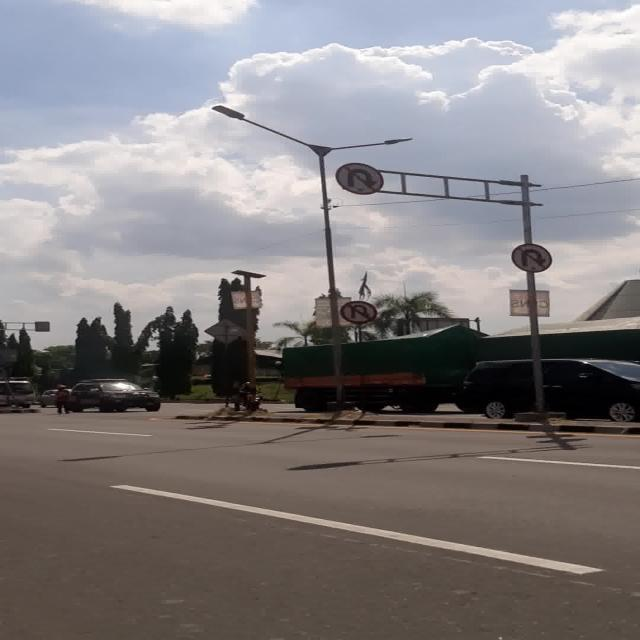Dilarang Putar Balik: (334, 162, 384, 195), (511, 242, 553, 272), (340, 300, 378, 324)
